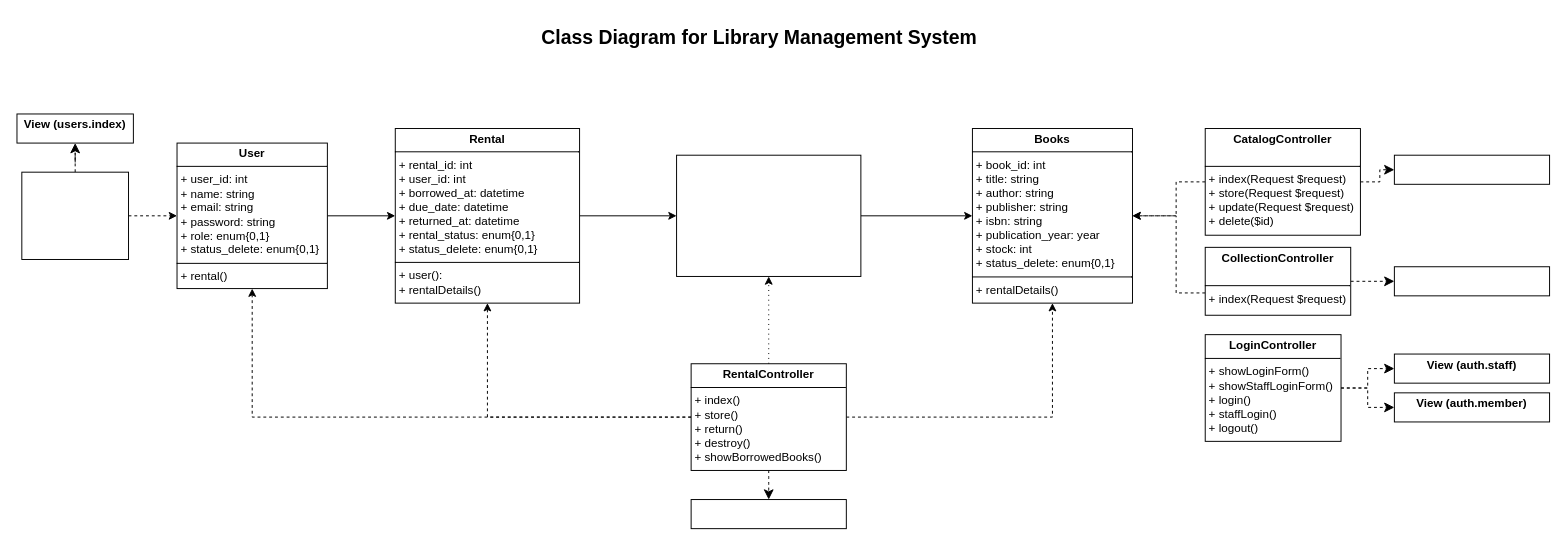
The diagram is 1567 pixels wide and 545 high, and some of its shapes have lost their labels. The centre of each missing label's shape, as x and y in pixels:
"RentalDetail + id: int + rental_id: int + book_id: int + rental() + book()" goes at point 768,215.
"UserController + index() + store() + update() + delete()" goes at point 75,215.
"View (catalog.index)" goes at point 1471,169.
"View (home)" goes at point 1471,281.
"View (rental.index)" goes at point 768,514.
